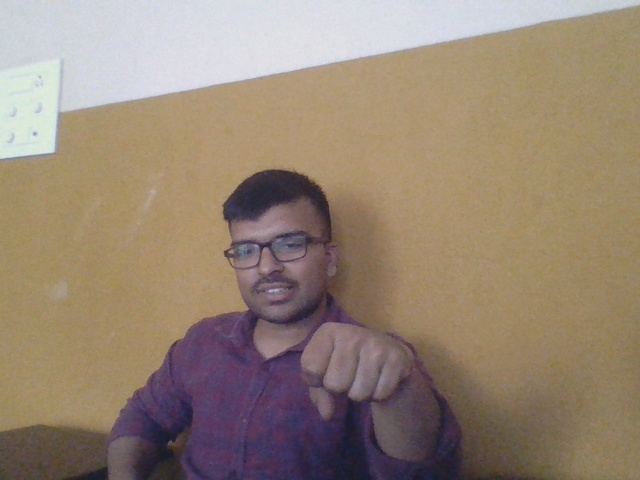Yes: (289, 310, 421, 419)
